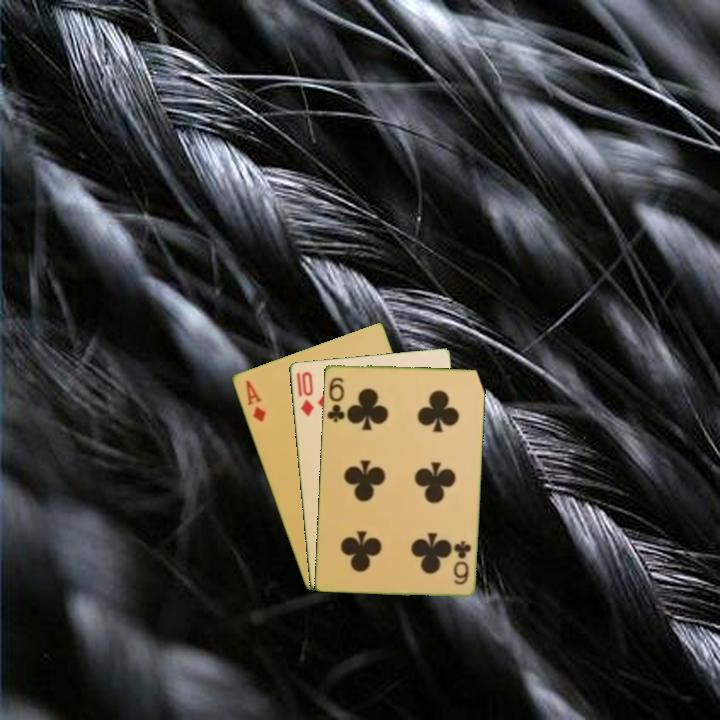10d: (297, 368, 317, 419)
6c: (450, 537, 474, 587), (324, 373, 347, 425)
Ad: (242, 377, 269, 425)
